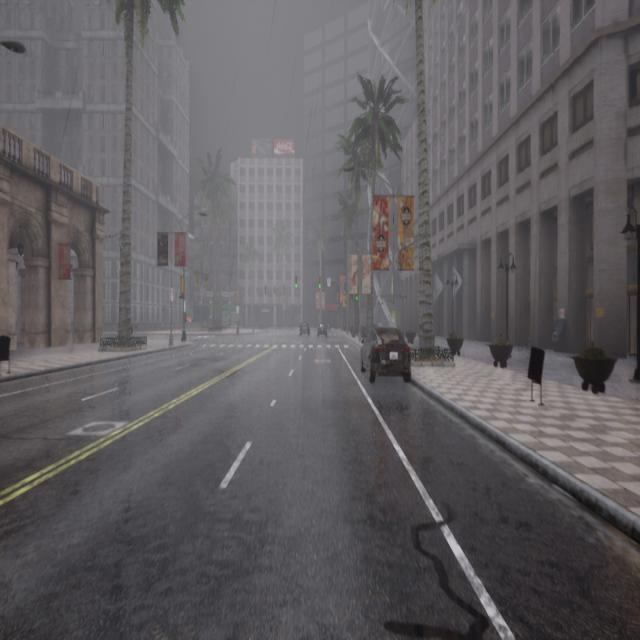bien_chi_dan: (314, 269, 324, 291), (352, 280, 359, 302), (293, 272, 300, 292), (294, 281, 299, 290), (354, 292, 358, 300), (318, 282, 322, 289)
